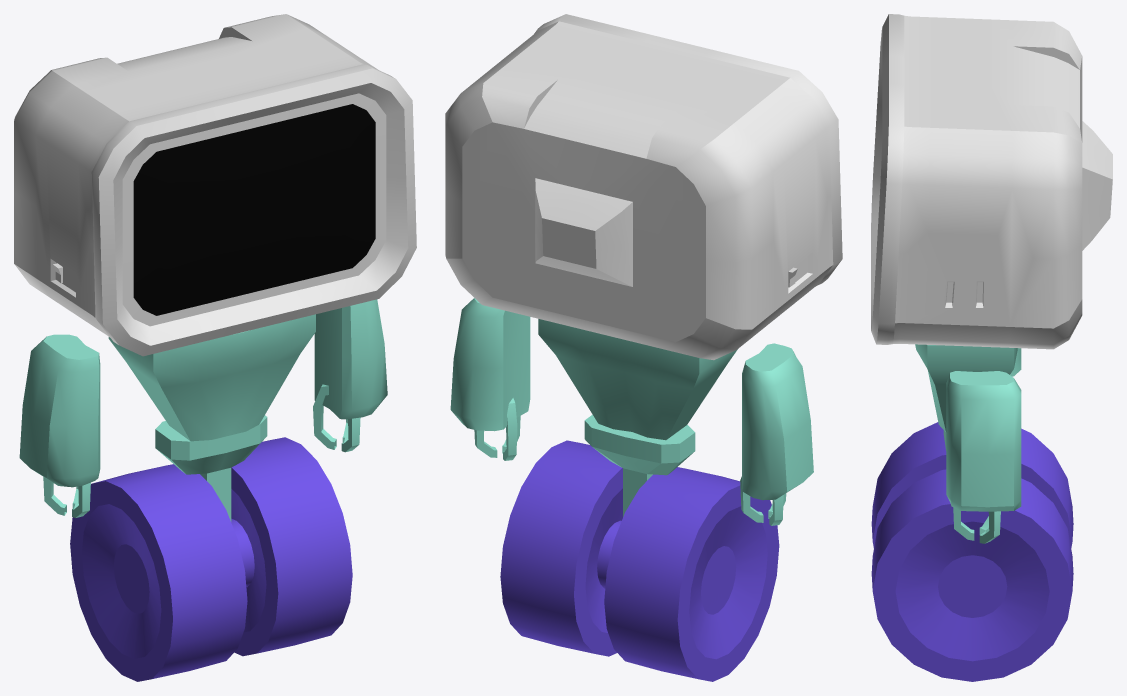
The model's file is Static Placeholder Character B-1.fbx.
3 views of the same model, side by side, from view 1: azimuth 30°, elevation 25°; view 2: azimuth 150°, elevation 25°; view 3: azimuth 270°, elevation 25° (orthographic). The views are drawn at different scales.
Parts seen in each view (by area): view 1: Cube, Cylinder; view 2: Cube, Cylinder; view 3: Cube, Cylinder.
Part boxes in pixels (box(x1,y1,x2,y2)): Cube: box(14, 14, 416, 521); Cylinder: box(70, 437, 352, 681); Cube: box(445, 14, 842, 525); Cylinder: box(500, 440, 779, 681); Cube: box(871, 14, 1112, 543); Cylinder: box(871, 422, 1073, 681).
Bounding box in the file's own units: 515 × 837 × 321.
